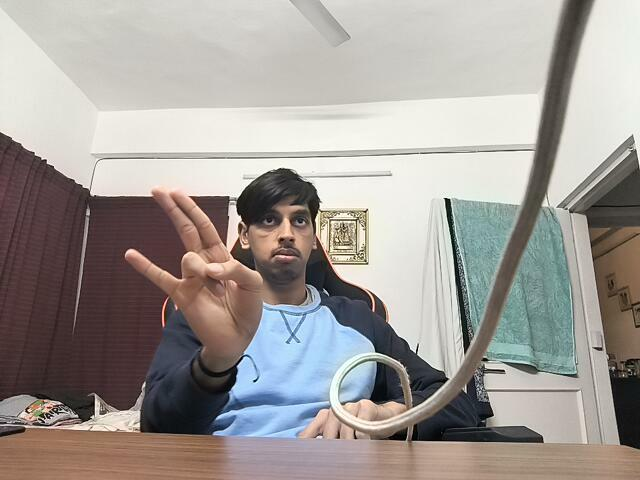BACKWARD: (109, 184, 282, 354)
